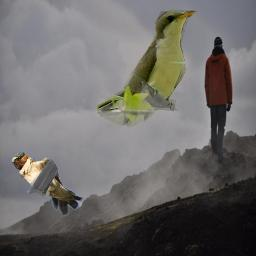Cuckoo: (97, 7, 199, 127)
Swallow: (10, 151, 84, 216)
